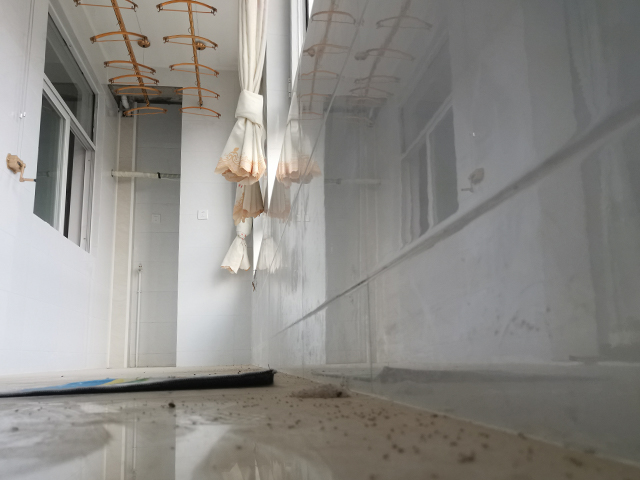carpet: (1, 361, 277, 399)
